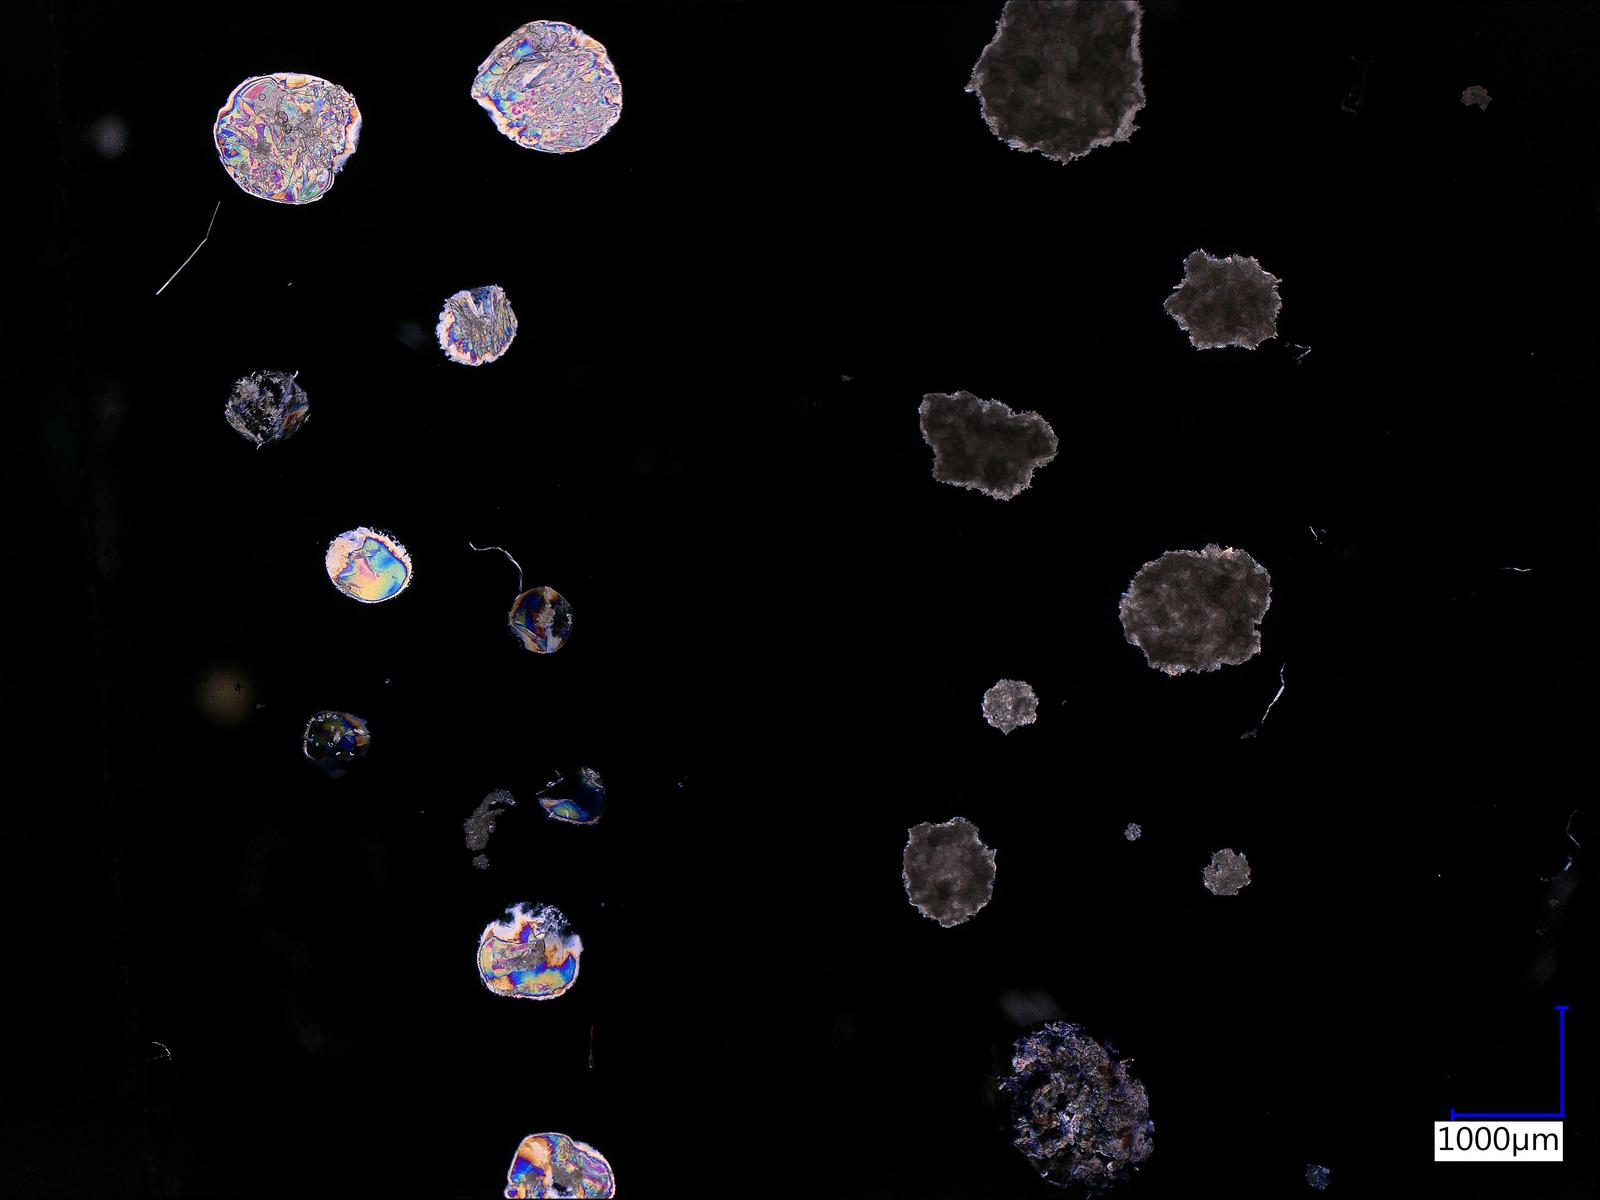sediment: (971, 3, 1146, 166), (1117, 546, 1271, 673), (918, 391, 1060, 497), (1165, 250, 1283, 350), (905, 818, 995, 926), (981, 679, 1039, 731), (1198, 850, 1251, 896)
